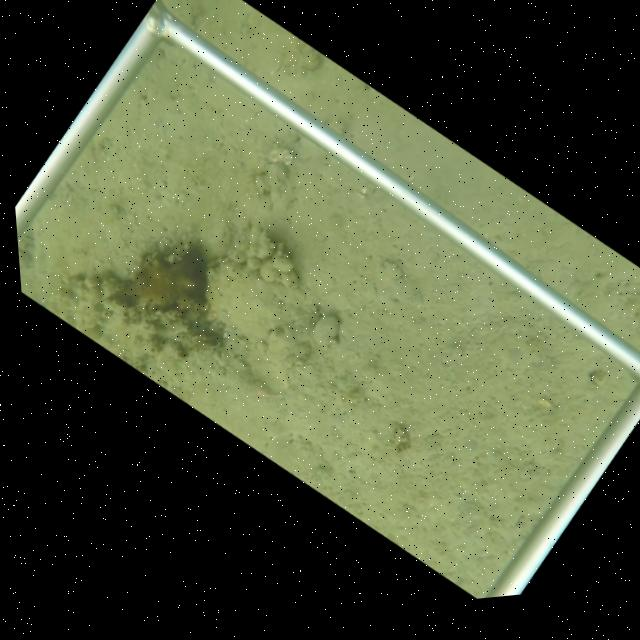Oyster-Indeterminate: (312, 313, 342, 349)
